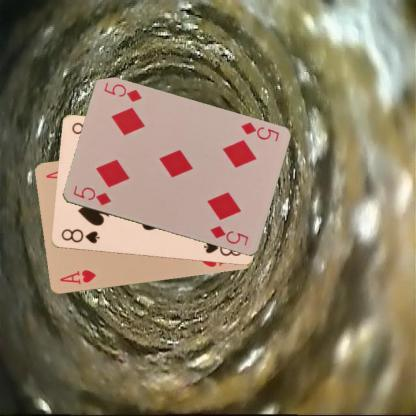5d: (70, 183, 112, 207), (238, 119, 280, 142)
8s: (58, 226, 100, 245)
Ah: (57, 267, 97, 287)
